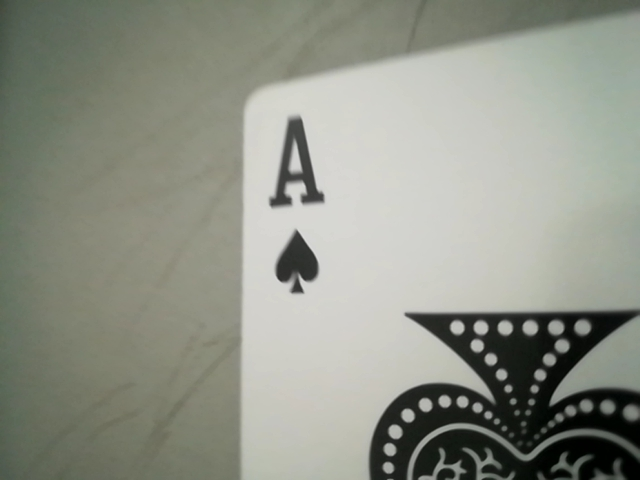ht a: (256, 108, 336, 296)
